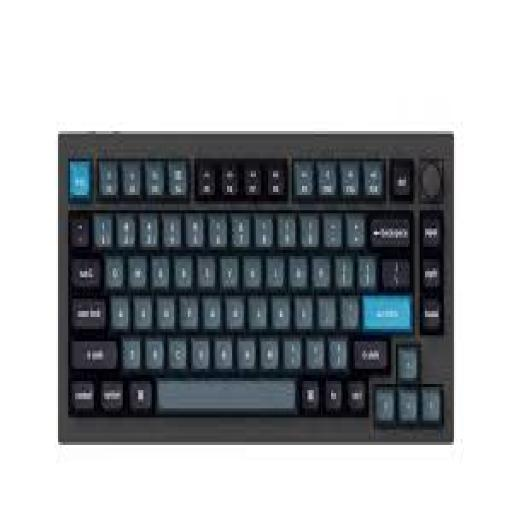keyboard: (60, 134, 452, 439)
